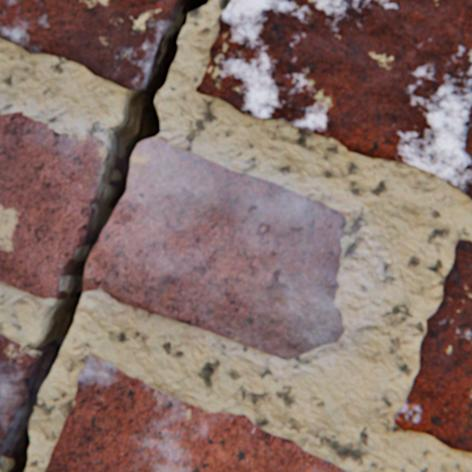brick: (195, 0, 471, 200), (45, 356, 349, 471), (394, 239, 471, 451), (0, 0, 176, 89), (0, 332, 39, 454)
broken_brick: (83, 138, 344, 358), (0, 112, 108, 297)
crack: (0, 0, 208, 471)
